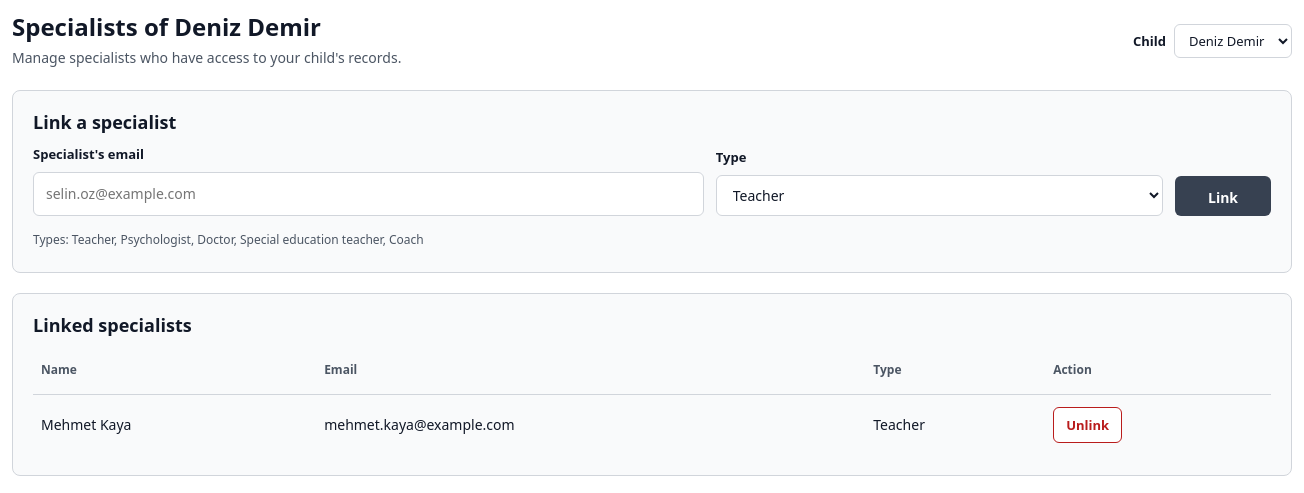
ParentSpecialistsPage (FR-M2-01..04) › supports switching between multiple children belonging to the parent
This screenshot has width=1304, height=493.
Expected: the text "Mehmet Kaya" is shown, [33,394,316,455]
Step 1. Select "Ege Demir" in the dropdown labelled "Child" → (1233, 41), box [1174,24,1292,58]
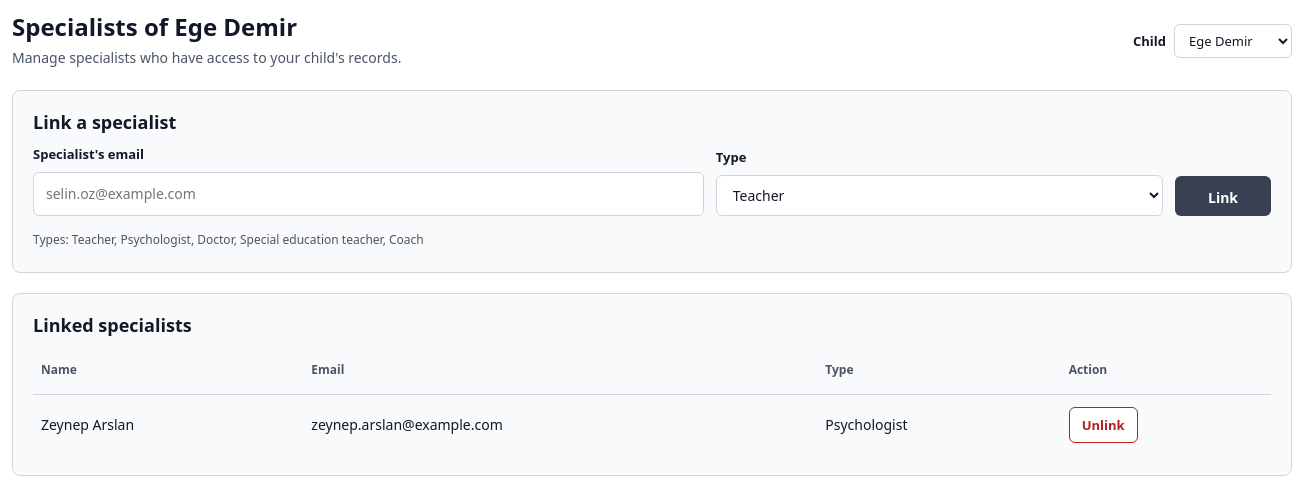
Now the text "Zeynep Arslan" is shown, box [33,394,303,455]
Now the text "Mehmet Kaya" is gone
